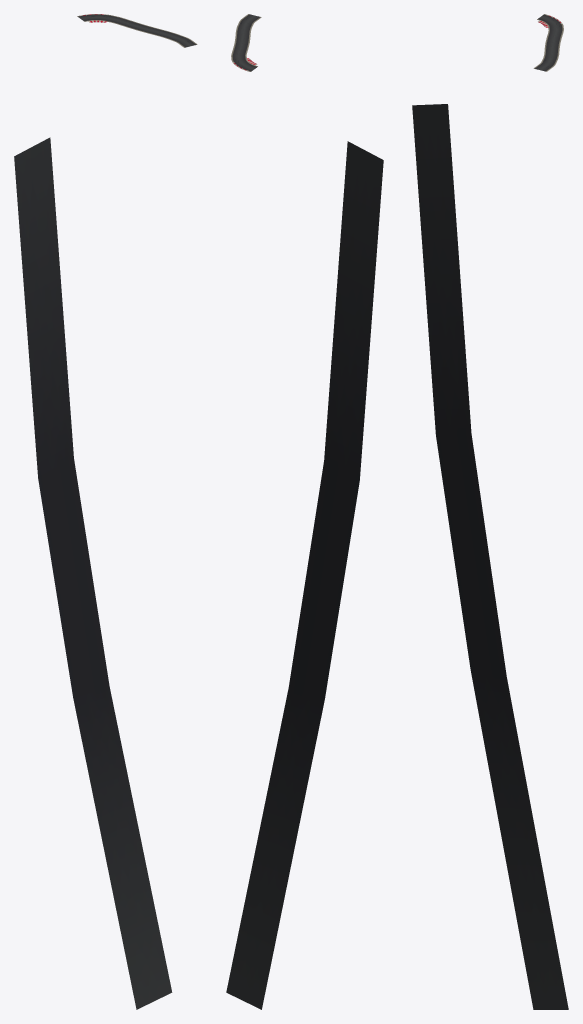
Rendered from Special_1A.glb.
3 renders of one model, left to right at view 1: azimuth 30°, elevation 25°; view 2: azimuth 150°, elevation 25°; view 3: azimuth 330°, elevation 25°, orthographic.
Parts seen in each view (by area): view 1: Serpentine_1B_Medium_Skidmarks, Special_1A; view 2: Serpentine_1B_Medium_Skidmarks, Special_1A; view 3: Serpentine_1B_Medium_Skidmarks, Special_1A.
Boxes of the visible parts, bbox=[...] form: Serpentine_1B_Medium_Skidmarks: bbox=[14, 137, 172, 1009]; Special_1A: bbox=[77, 14, 197, 47]; Serpentine_1B_Medium_Skidmarks: bbox=[226, 141, 383, 1009]; Special_1A: bbox=[231, 14, 261, 71]; Serpentine_1B_Medium_Skidmarks: bbox=[412, 104, 568, 1009]; Special_1A: bbox=[533, 14, 563, 71].
Size of the model in its own units: 234 by 1359 by 150.
Materials: 2 (2 with a texture image).
